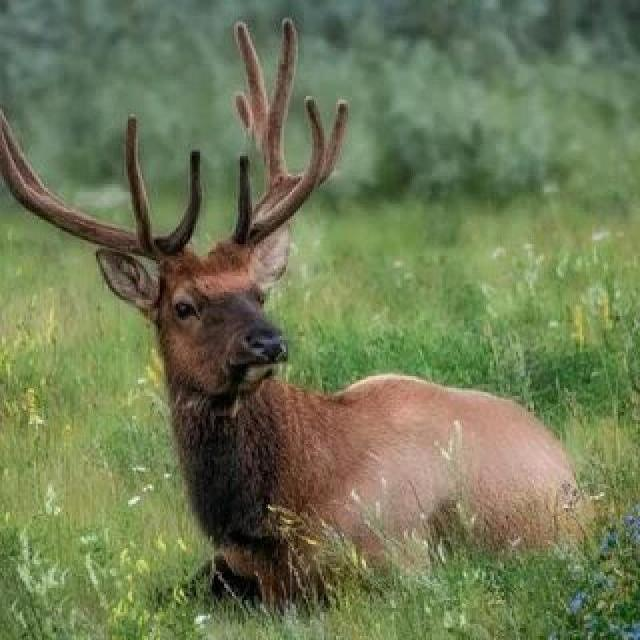deer: (0, 19, 606, 574)
